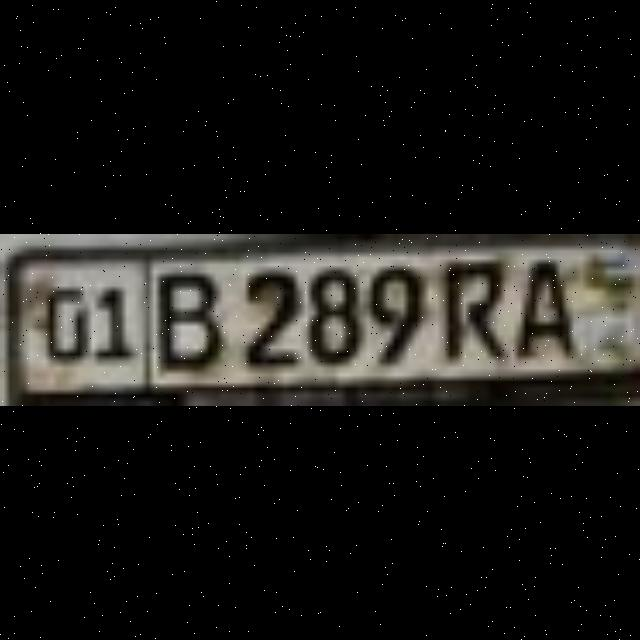0: (42, 282, 82, 352)
1: (90, 282, 124, 352)
2: (240, 262, 296, 358)
8: (303, 262, 351, 358)
9: (364, 262, 420, 358)
A: (509, 255, 571, 351)
B: (151, 268, 213, 358)
R: (433, 255, 502, 351)
